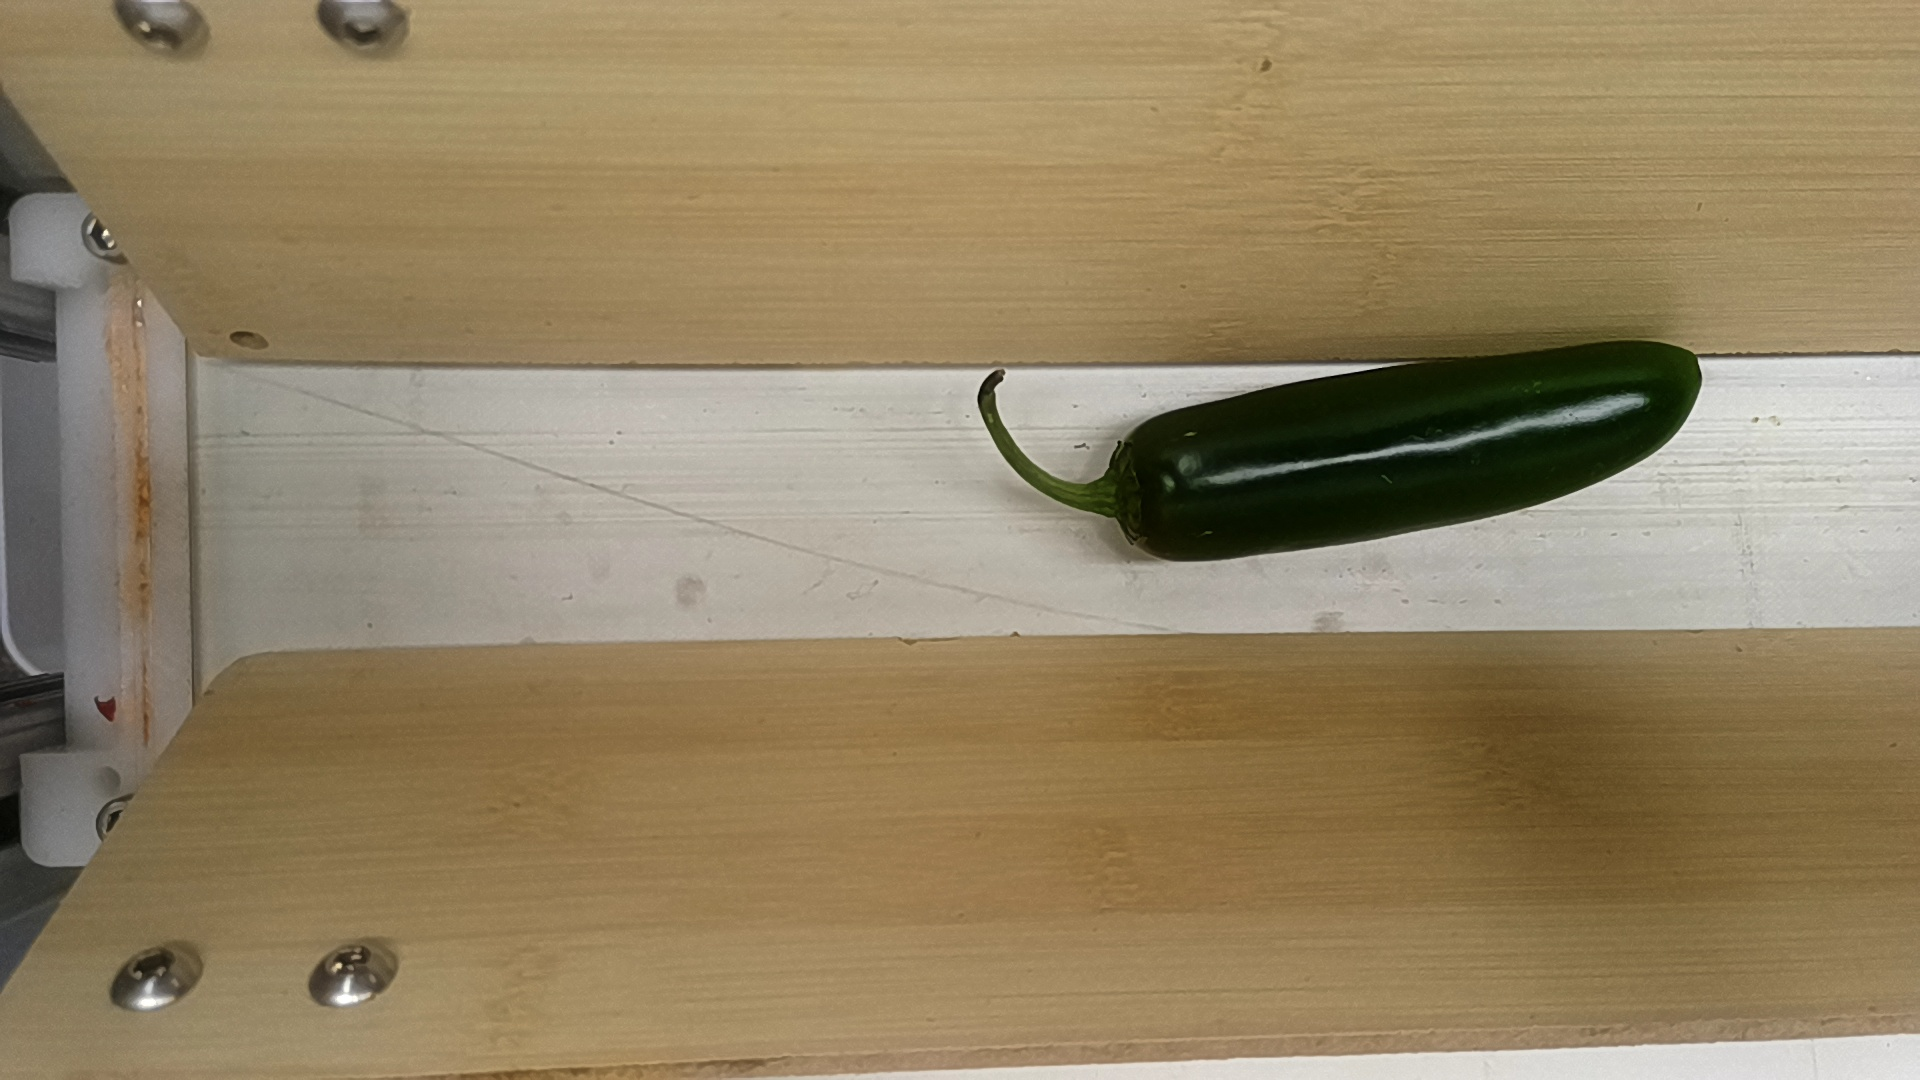Cut Point: (1091, 406, 1185, 574)
